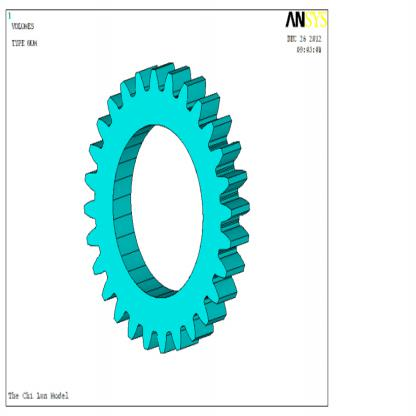FOD: (80, 60, 250, 360)
